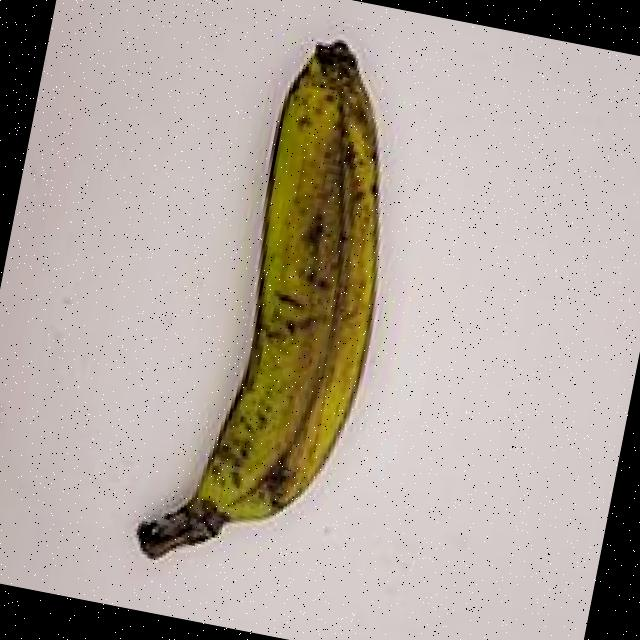Overripe: (57, 0, 472, 610)
